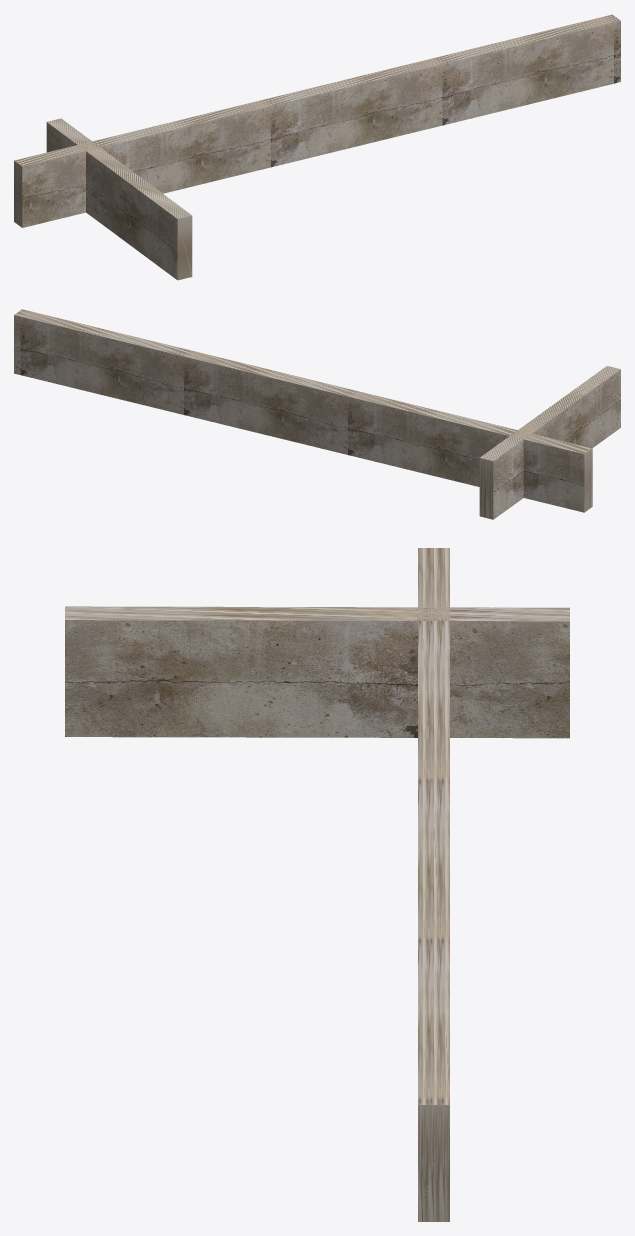
The model's file is Pared final.FBX.
3 views of the same model, one above another, from view 1: azimuth 30°, elevation 25°; view 2: azimuth 150°, elevation 25°; view 3: azimuth 270°, elevation 25° (orthographic). The views are drawn at different scales.
Parts seen in each view (by area): view 1: Box001, Box002; view 2: Box001, Box002; view 3: Box002, Box001.
Boxes of the visible parts, <box> form: Box001: <box>14,14,620,227</box>; Box002: <box>46,118,192,280</box>; Box001: <box>14,309,592,512</box>; Box002: <box>479,366,620,519</box>; Box002: <box>65,606,569,738</box>; Box001: <box>418,548,449,1221</box>.
Bounding box in the file's own units: 856 × 83.88 × 328.
Materials: 1 (1 with a texture image).
